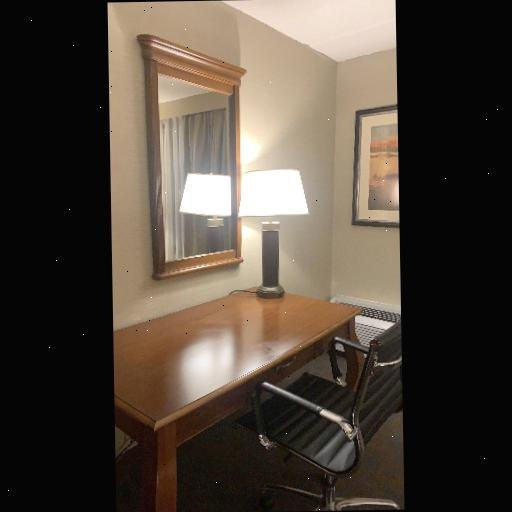chair: (246, 321, 404, 512)
lamp: (238, 168, 311, 302)
organized table: (111, 278, 359, 512)
